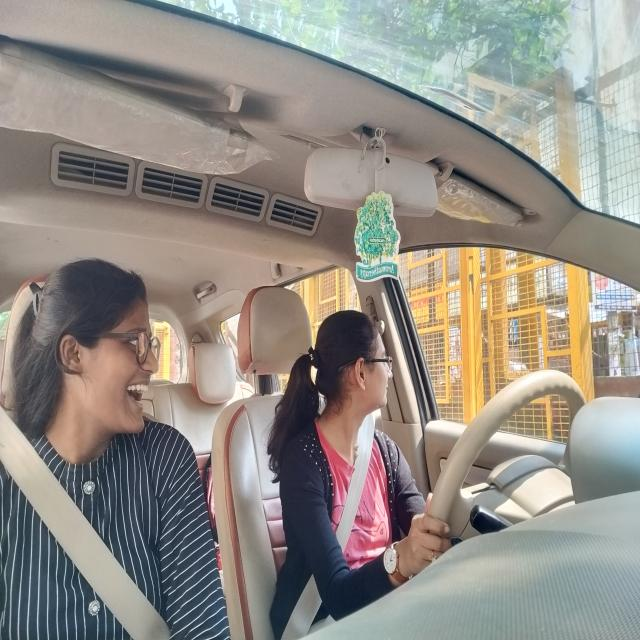LeftRight: (315, 306, 398, 422)
person: (49, 262, 168, 444)
